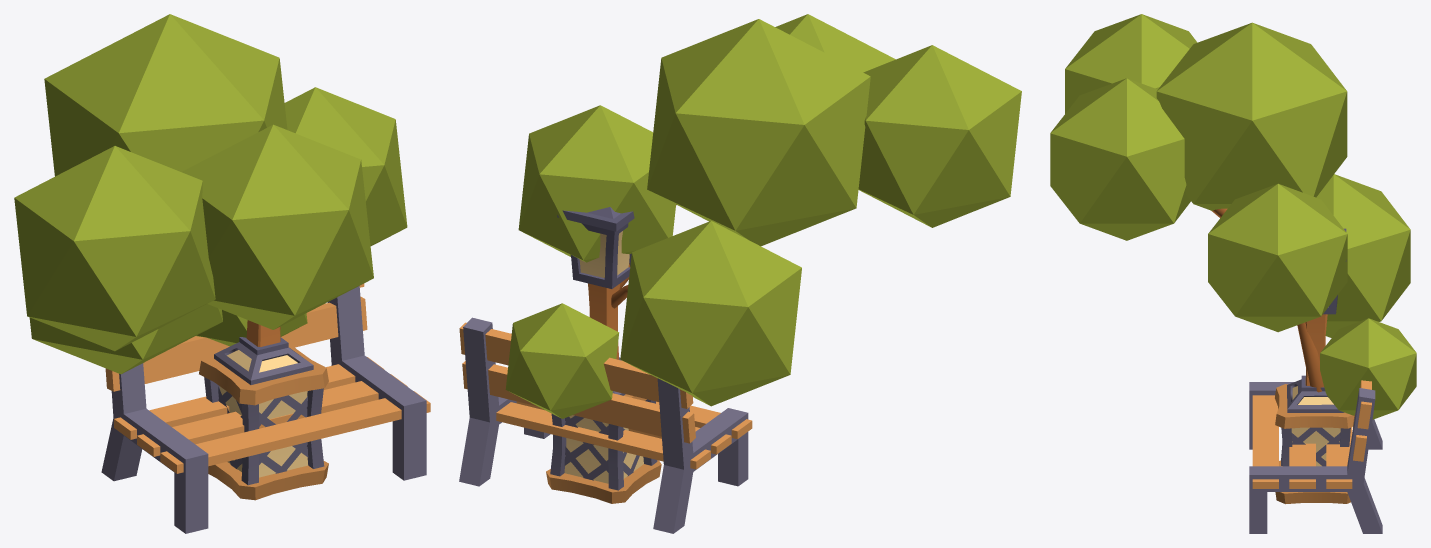
Rendered from island-props.glb.
3 views of the same model, side by side, from view 1: azimuth 30°, elevation 25°; view 2: azimuth 150°, elevation 25°; view 3: azimuth 270°, elevation 25° (orthographic). The views are drawn at different scales.
Visible parts, largest first — view 1: treeLeaves.014, benchPhysicalDynamic, treeLeaves.018, treeLeaves.013, base, treeLeaves.015, treeLeaves.016, light, treeLeaves.017, body.004; view 2: treeLeaves.013, treeLeaves.016, treeLeaves.014, benchPhysicalDynamic, treeLeaves.015, treeLeaves.017, base, body.004, treeLeaves.018, light, glass.003; view 3: treeLeaves.013, treeLeaves.018, treeLeaves.015, benchPhysicalDynamic, treeLeaves.016, treeLeaves.017, treeLeaves.014, base, treeBody.015, body.004, light.
Boxes of the visible parts, box(x1,y1,x2,y2) form: treeLeaves.014: box(14, 146, 215, 351); benchPhysicalDynamic: box(101, 283, 430, 533); treeLeaves.018: box(181, 124, 373, 329); treeLeaves.013: box(44, 14, 287, 176); base: box(199, 339, 328, 500); treeLeaves.015: box(284, 87, 407, 245); treeLeaves.016: box(29, 304, 222, 374); light: box(219, 350, 308, 477); treeLeaves.017: box(196, 310, 307, 346); body.004: box(239, 320, 288, 355); treeLeaves.013: box(647, 19, 870, 246); treeLeaves.016: box(620, 221, 801, 406); treeLeaves.014: box(858, 45, 1021, 227); benchPhysicalDynamic: box(459, 317, 752, 533); treeLeaves.015: box(518, 105, 675, 262); treeLeaves.017: box(505, 303, 619, 418); base: box(546, 391, 661, 503); body.004: box(557, 207, 634, 360); treeLeaves.018: box(775, 14, 895, 72); light: box(564, 415, 643, 483); glass.003: box(579, 231, 629, 277); treeLeaves.013: box(1156, 22, 1347, 210); treeLeaves.018: box(1050, 78, 1190, 240); treeLeaves.015: box(1208, 183, 1347, 332); benchPhysicalDynamic: box(1249, 380, 1382, 533); treeLeaves.016: box(1316, 174, 1410, 337); treeLeaves.017: box(1320, 318, 1416, 419); treeLeaves.014: box(1065, 14, 1197, 113); base: box(1275, 379, 1354, 504); treeBody.015: box(1212, 208, 1323, 392); body.004: box(1301, 228, 1346, 391); light: box(1291, 386, 1340, 466).
Size of the model in its own units: 4.23 by 4.45 by 3.58.
5 materials, 4 textured.
